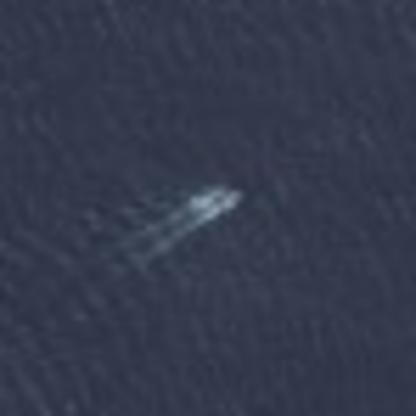ship: (183, 176, 248, 225)
